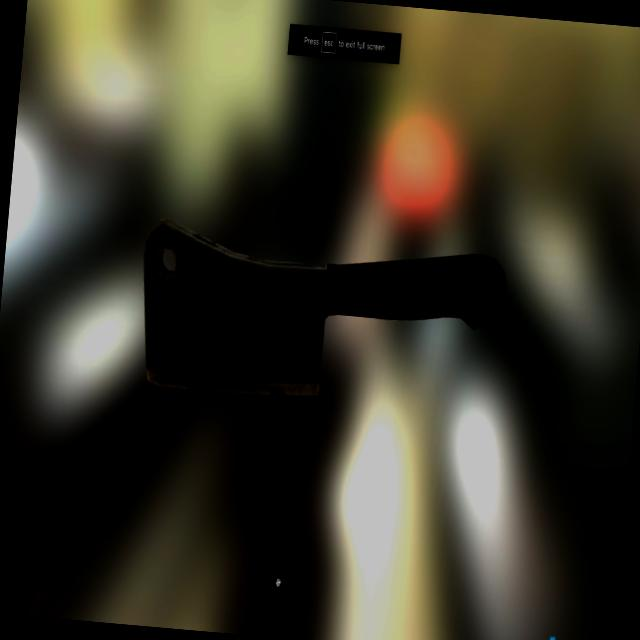cleaver: (133, 220, 518, 410)
